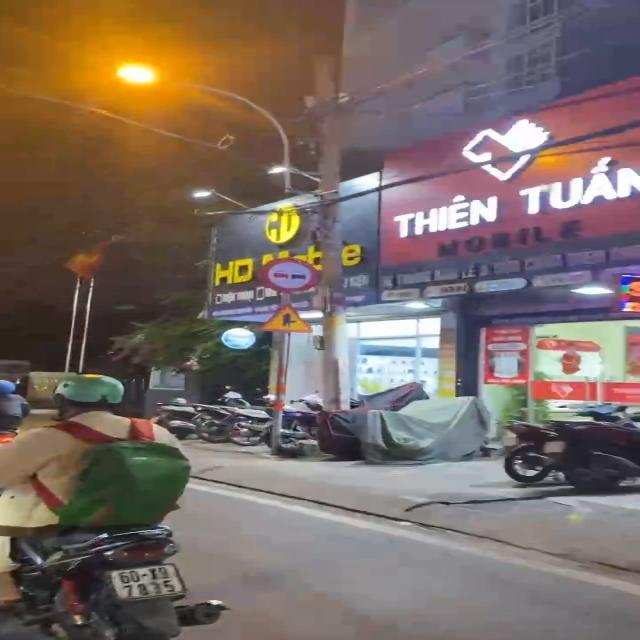125-cam-vuot: (258, 256, 318, 292)
207-giao-nhau-voi-duong-khong-uu-tien: (256, 304, 316, 334)
